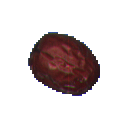gd: (18, 17, 111, 107)
